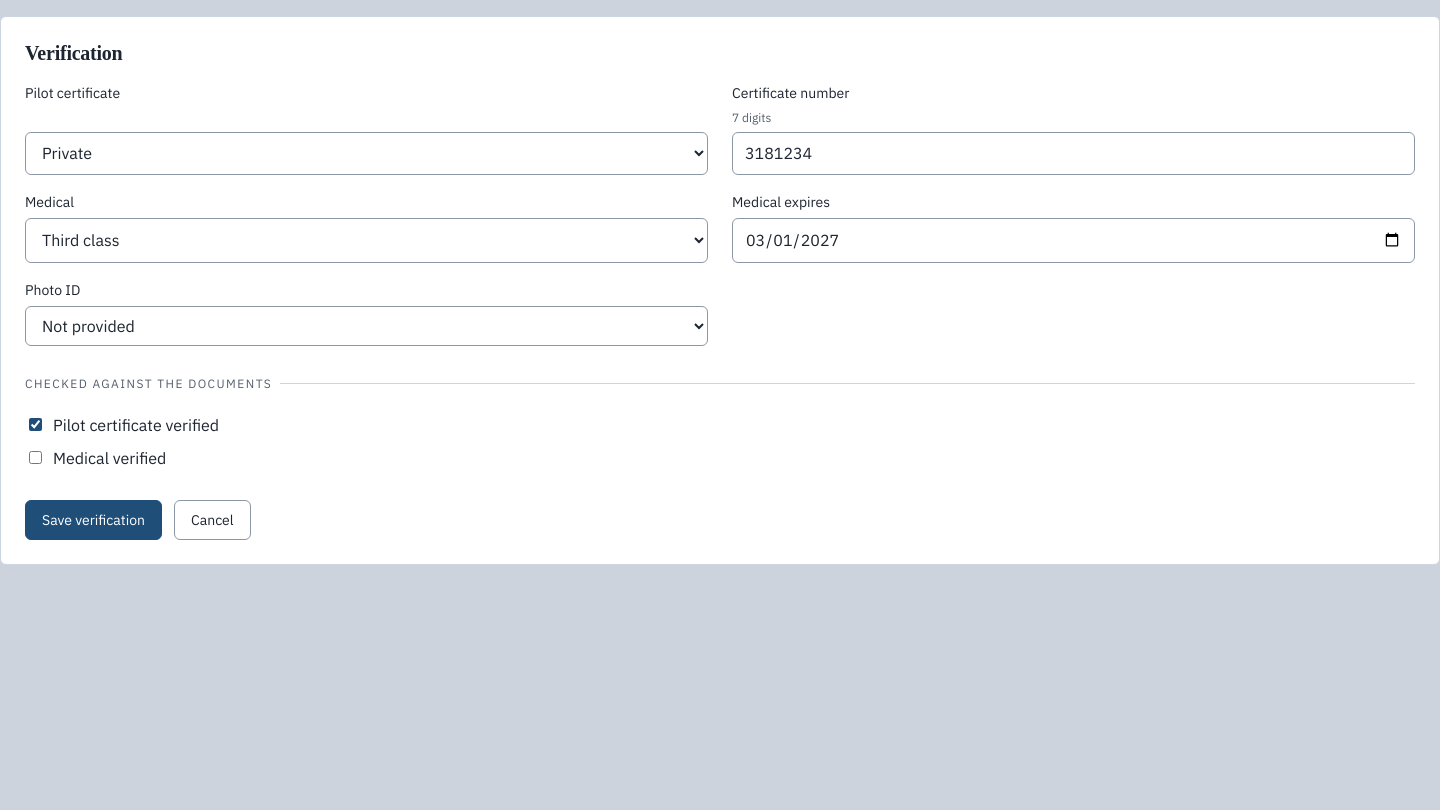
Test: MemberVerificationPanel › says there isn't anything to verify when the person doesn't hold any of the items
Select "Not a pilot" in the dropdown labelled "Pilot certificate". click: (366, 153)
box: [25,132,708,175]
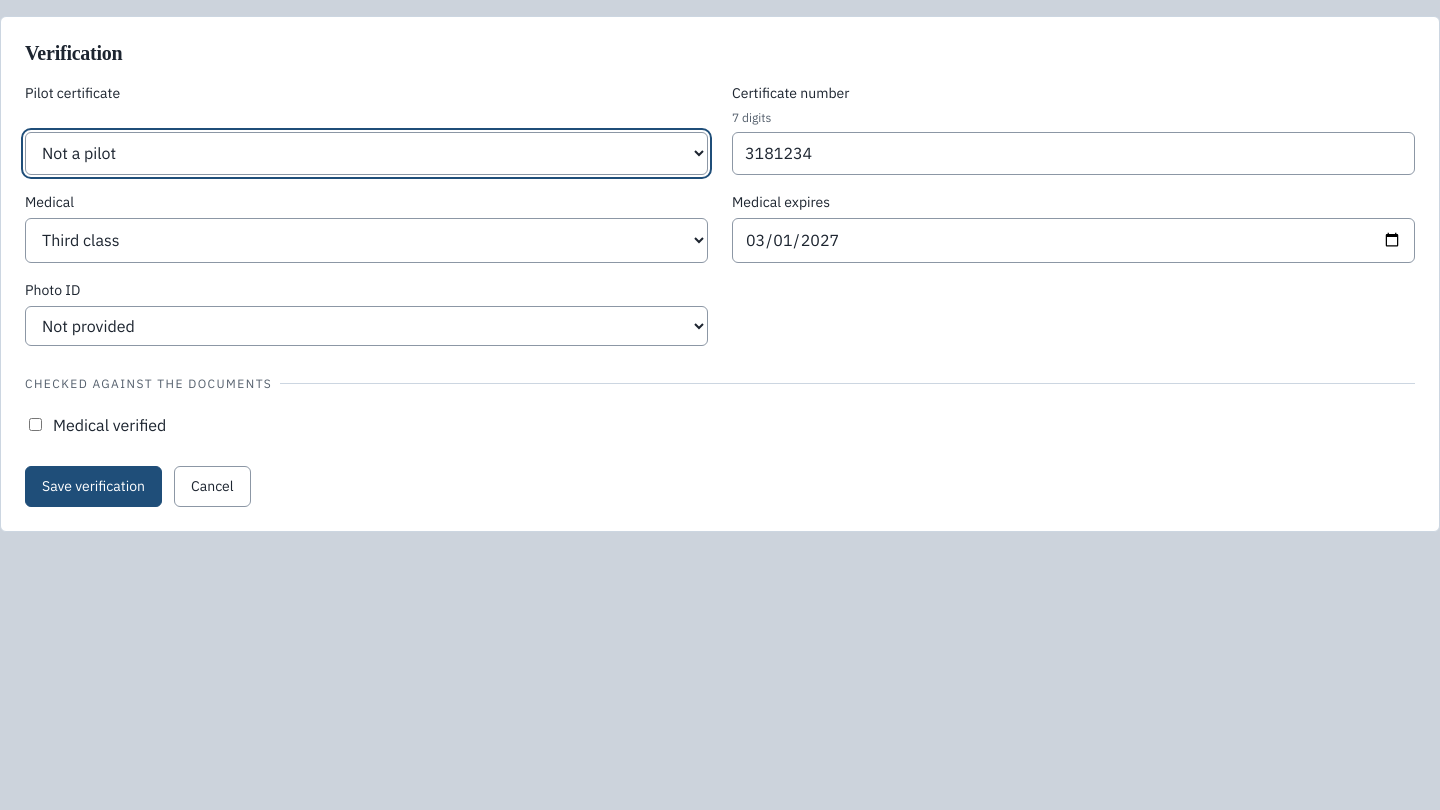
Select "None" in the dropdown labelled "Medical". click: (366, 240)
box: [25,218,708,263]
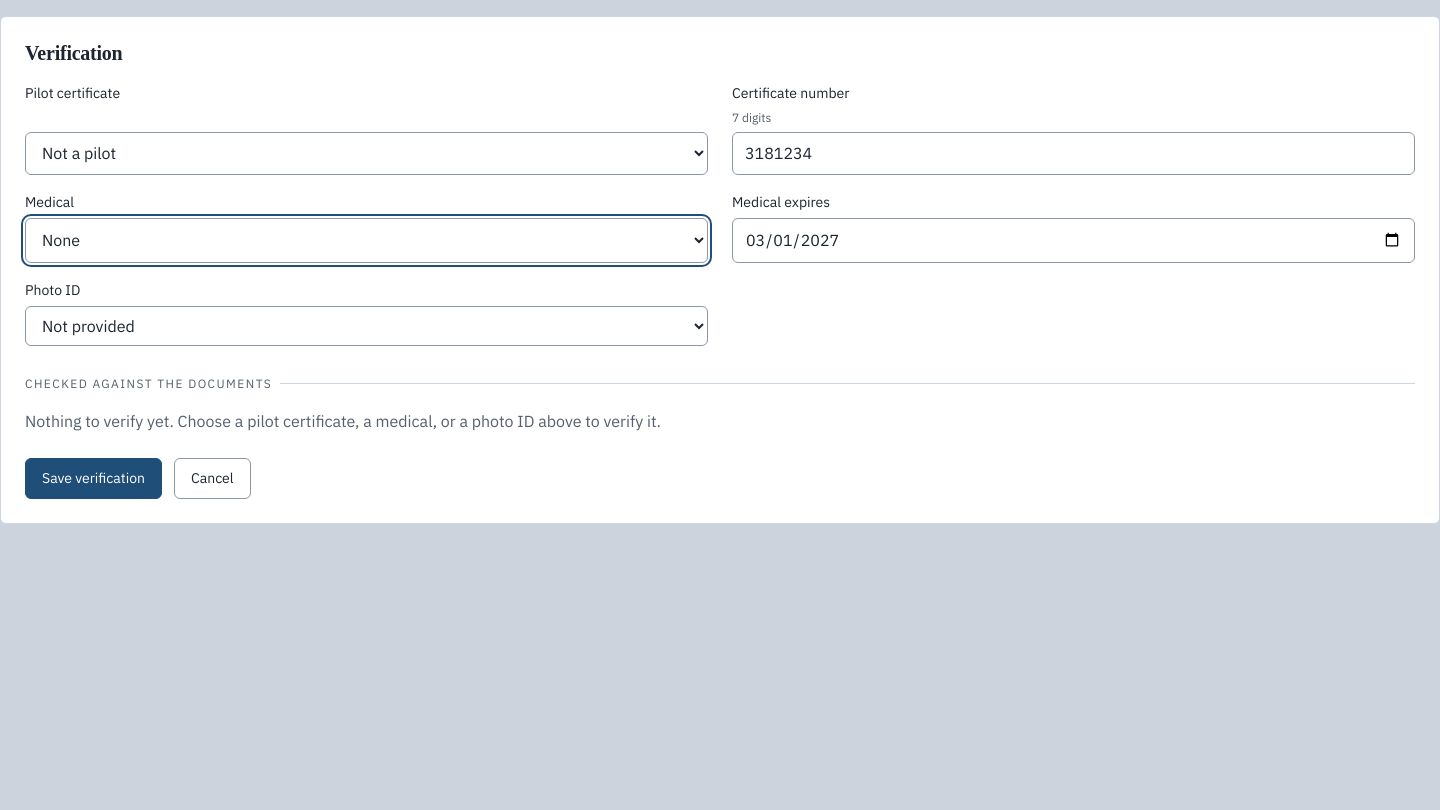
Now the text "Nothing to verify yet" is shown, box [25,411,661,431]
